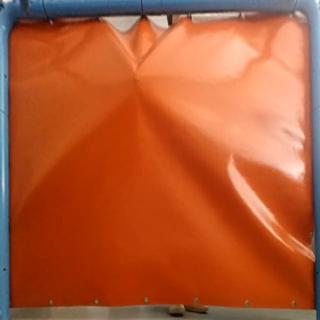Hit-hRxx: (125, 72, 148, 88)
